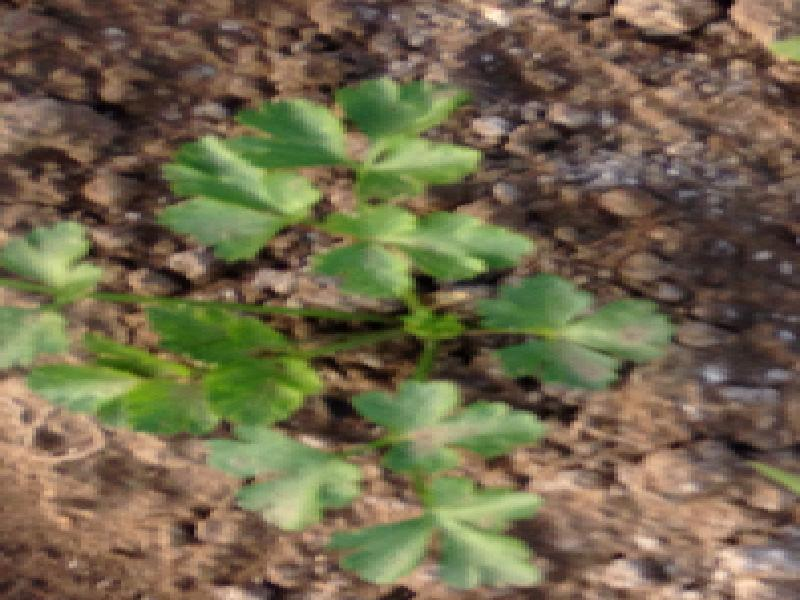radish: (74, 136, 700, 545)
